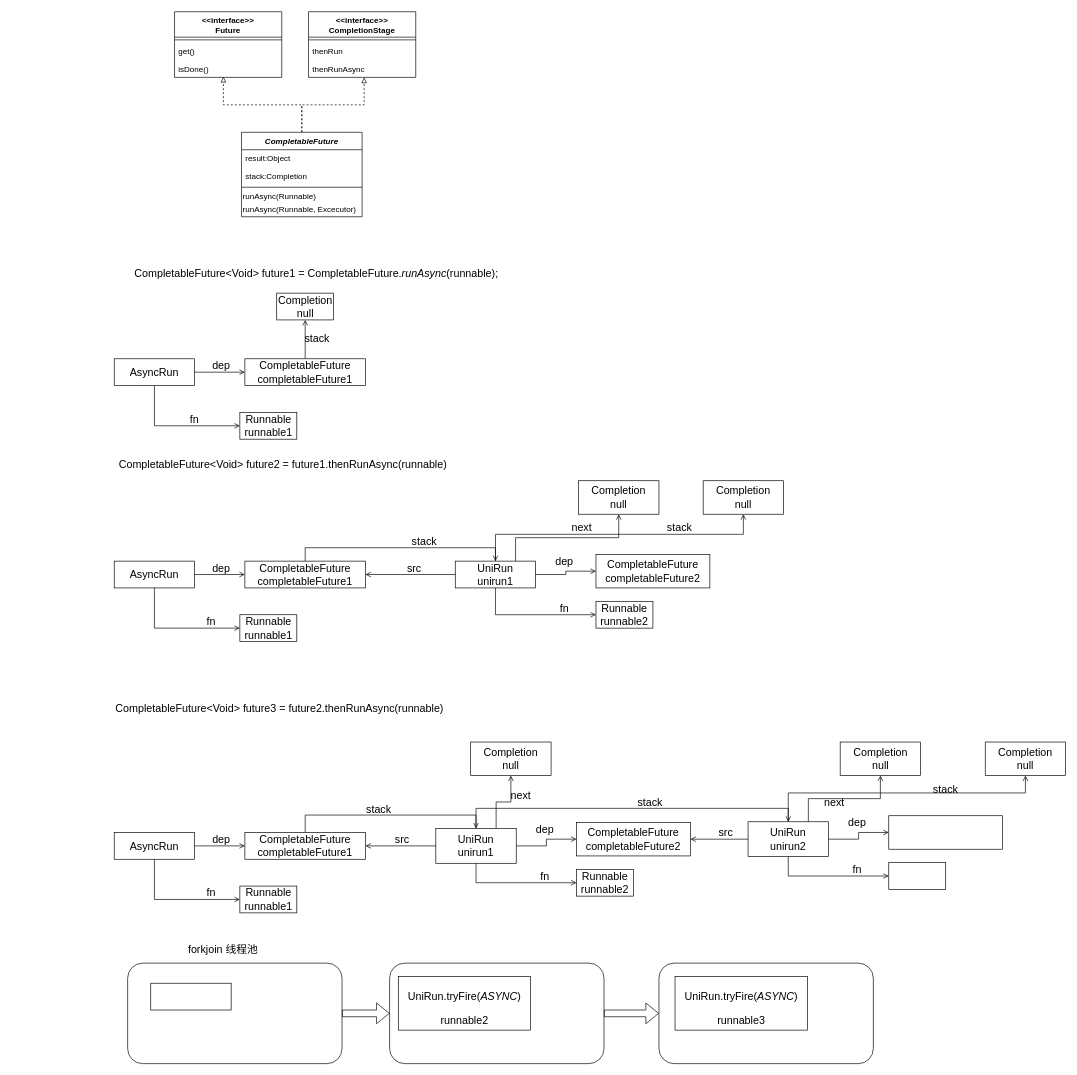
This 1077x1075 diagram has some shape labels left out. Each missing label, with the centre of its shape:
AsyncRun.run() runnable1: the point at 190,996
CompletableFuture completableFuture3: the point at 945,832
Runnable runnable3: the point at 917,875
